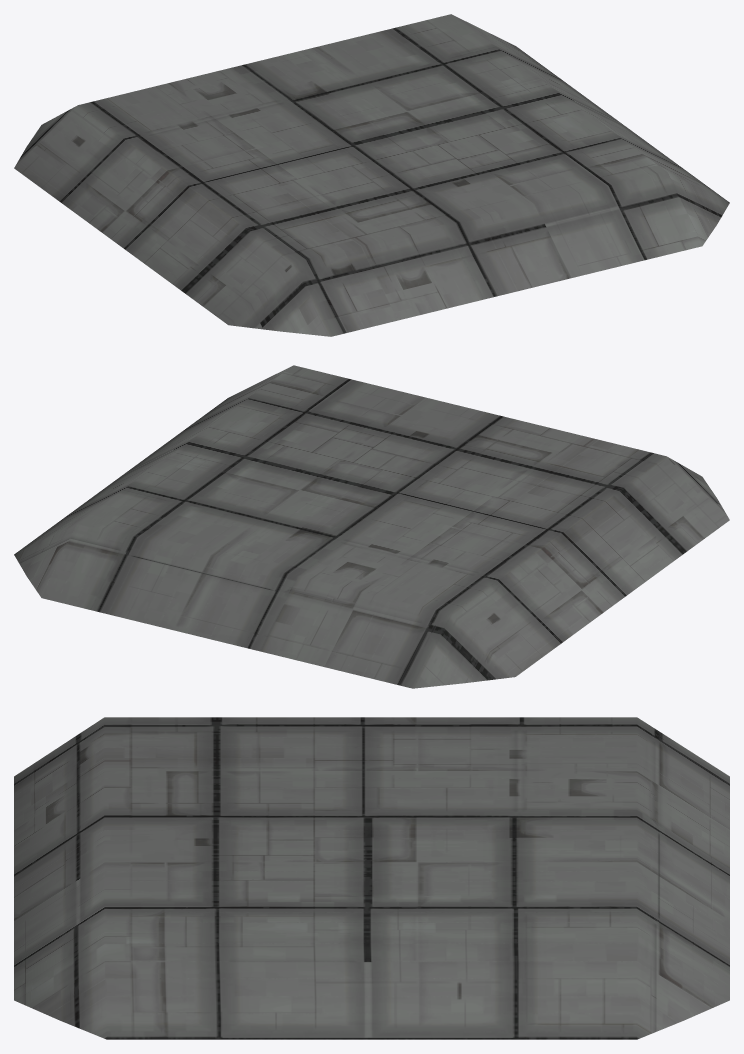
File: Techo.obj
The picture shows the model from 3 angles, top to bottom: view 1: azimuth 30°, elevation 25°; view 2: azimuth 150°, elevation 25°; view 3: azimuth 270°, elevation 25°; orthographic projection. The views are drawn at different scales.
Parts seen in each view (by area): view 1: techo; view 2: techo; view 3: techo.
Boxes of the visible parts, <box> form: techo: <box>14,14,729,336</box>; techo: <box>14,365,729,688</box>; techo: <box>14,717,729,1039</box>.
Size of the model in its own units: 1075 by 97.26 by 1075.
